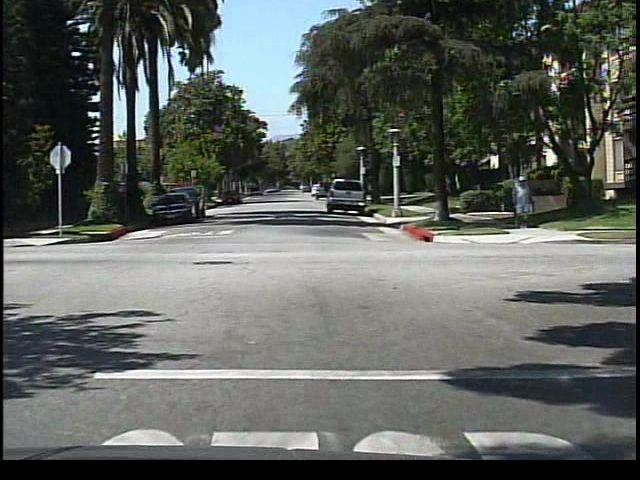person: (508, 173, 537, 230)
